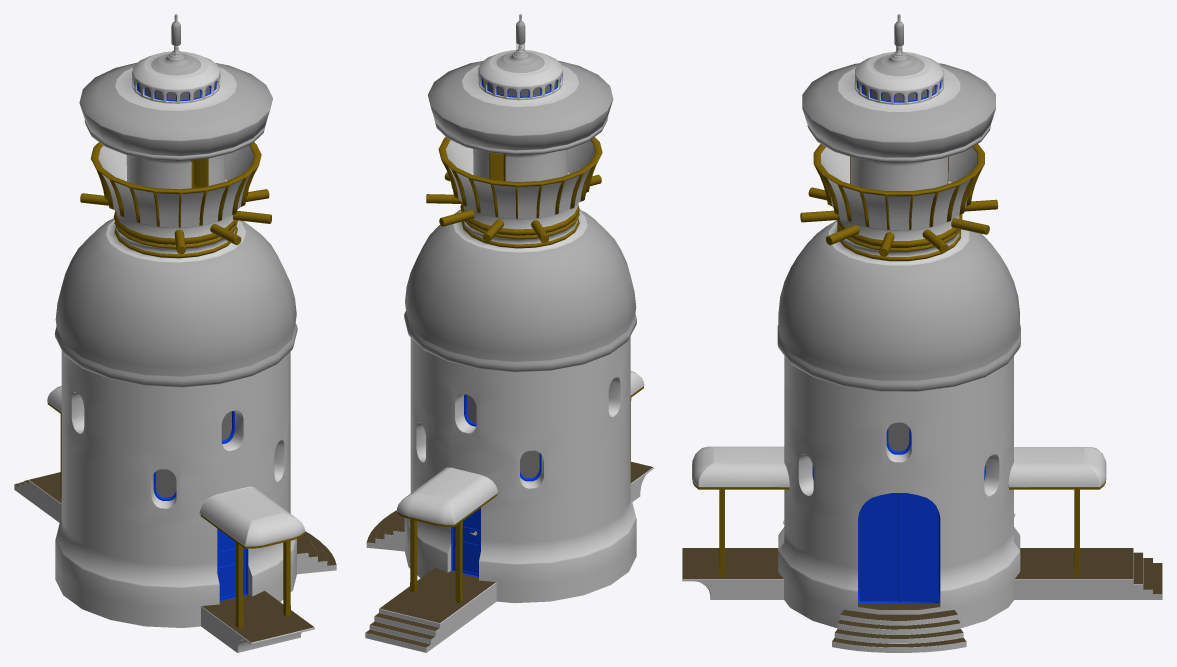
The model's file is windmill.fbx.
3 views of the same model, side by side, from view 1: azimuth 30°, elevation 25°; view 2: azimuth 150°, elevation 25°; view 3: azimuth 270°, elevation 25° (orthographic). The views are drawn at different scales.
Parts seen in each view (by area): view 1: Windmill; view 2: Windmill; view 3: Windmill.
Part boxes in pixels (box(x1,y1,x2,y2)): Windmill: box(14, 14, 336, 652); Windmill: box(365, 14, 653, 652); Windmill: box(682, 14, 1162, 652).
Bounding box in the file's own units: 7.34 × 16.24 × 12.4.
